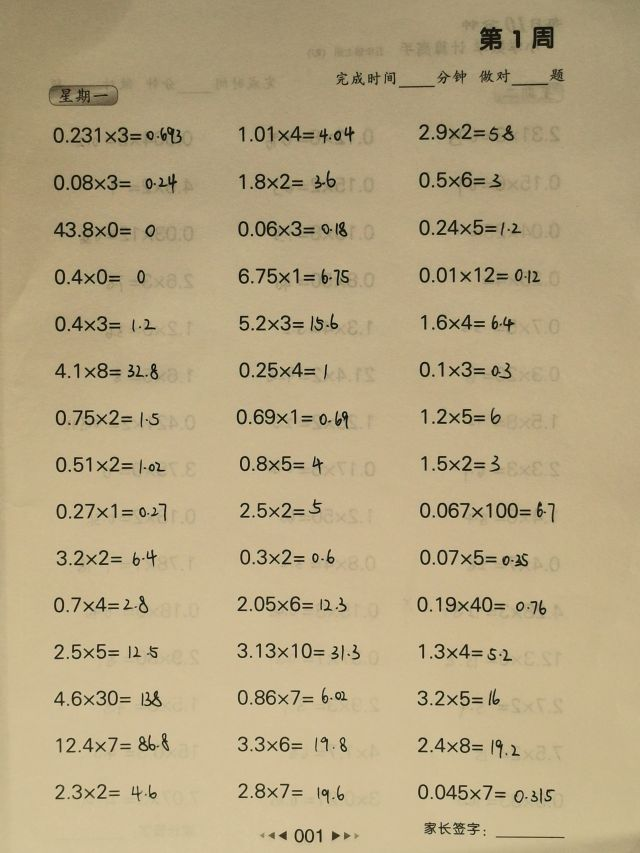equation: (415, 496, 558, 524), (415, 779, 558, 807), (46, 123, 188, 148), (412, 592, 550, 617), (49, 171, 181, 197), (414, 261, 543, 287), (233, 638, 364, 663), (52, 499, 171, 526), (51, 730, 173, 756), (231, 404, 352, 430), (234, 122, 358, 147), (234, 778, 348, 805), (51, 451, 169, 477), (234, 263, 352, 288), (234, 216, 352, 241), (234, 731, 351, 756), (50, 357, 162, 383), (234, 591, 350, 616), (50, 778, 161, 804), (414, 734, 524, 760), (233, 685, 350, 709), (50, 405, 162, 430), (415, 545, 531, 569), (415, 215, 526, 240), (51, 686, 165, 710), (51, 311, 160, 336), (235, 167, 339, 193), (51, 640, 162, 664), (415, 118, 517, 144), (235, 310, 341, 335), (50, 218, 160, 242), (415, 356, 515, 382), (53, 546, 161, 570), (50, 592, 153, 617), (417, 310, 518, 335), (50, 264, 149, 289), (236, 545, 339, 569), (235, 357, 331, 382), (414, 640, 515, 663), (235, 451, 326, 476), (415, 167, 506, 192), (236, 497, 325, 522), (418, 404, 506, 429), (418, 452, 505, 477), (413, 686, 503, 709)
